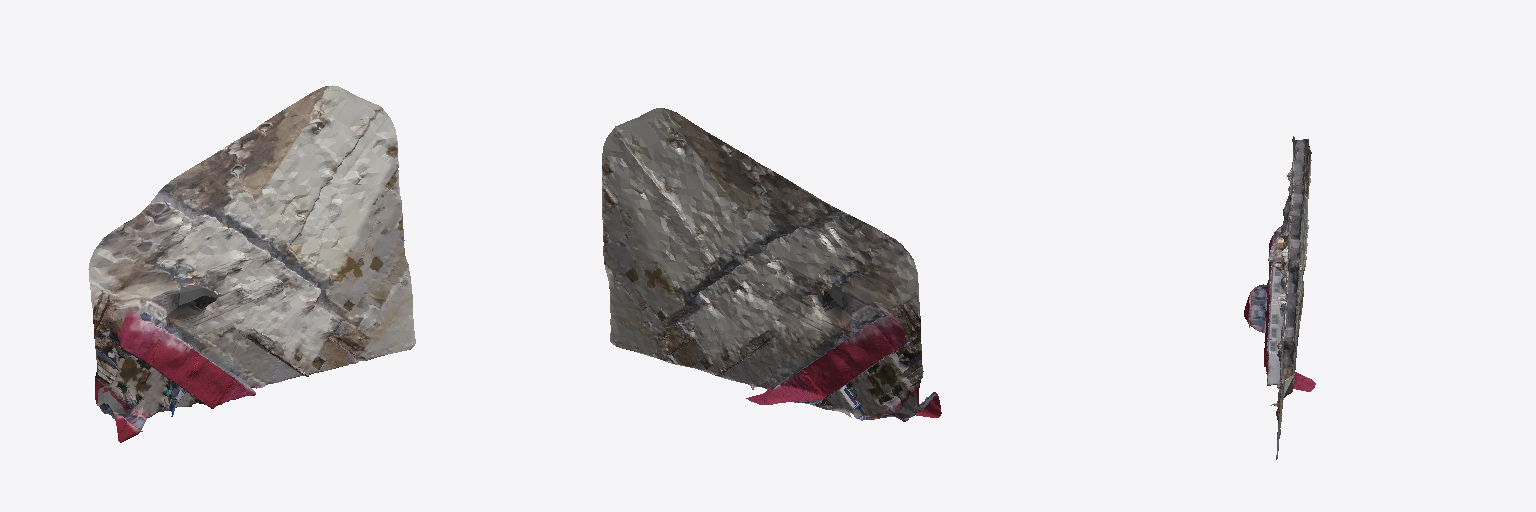
3 renders of one model, left to right at view 1: azimuth 30°, elevation 25°; view 2: azimuth 150°, elevation 25°; view 3: azimuth 270°, elevation 25°, orthographic.
Size of the model in its own units: 60.75 by 50.25 by 11.92.
2 materials, 1 textured.